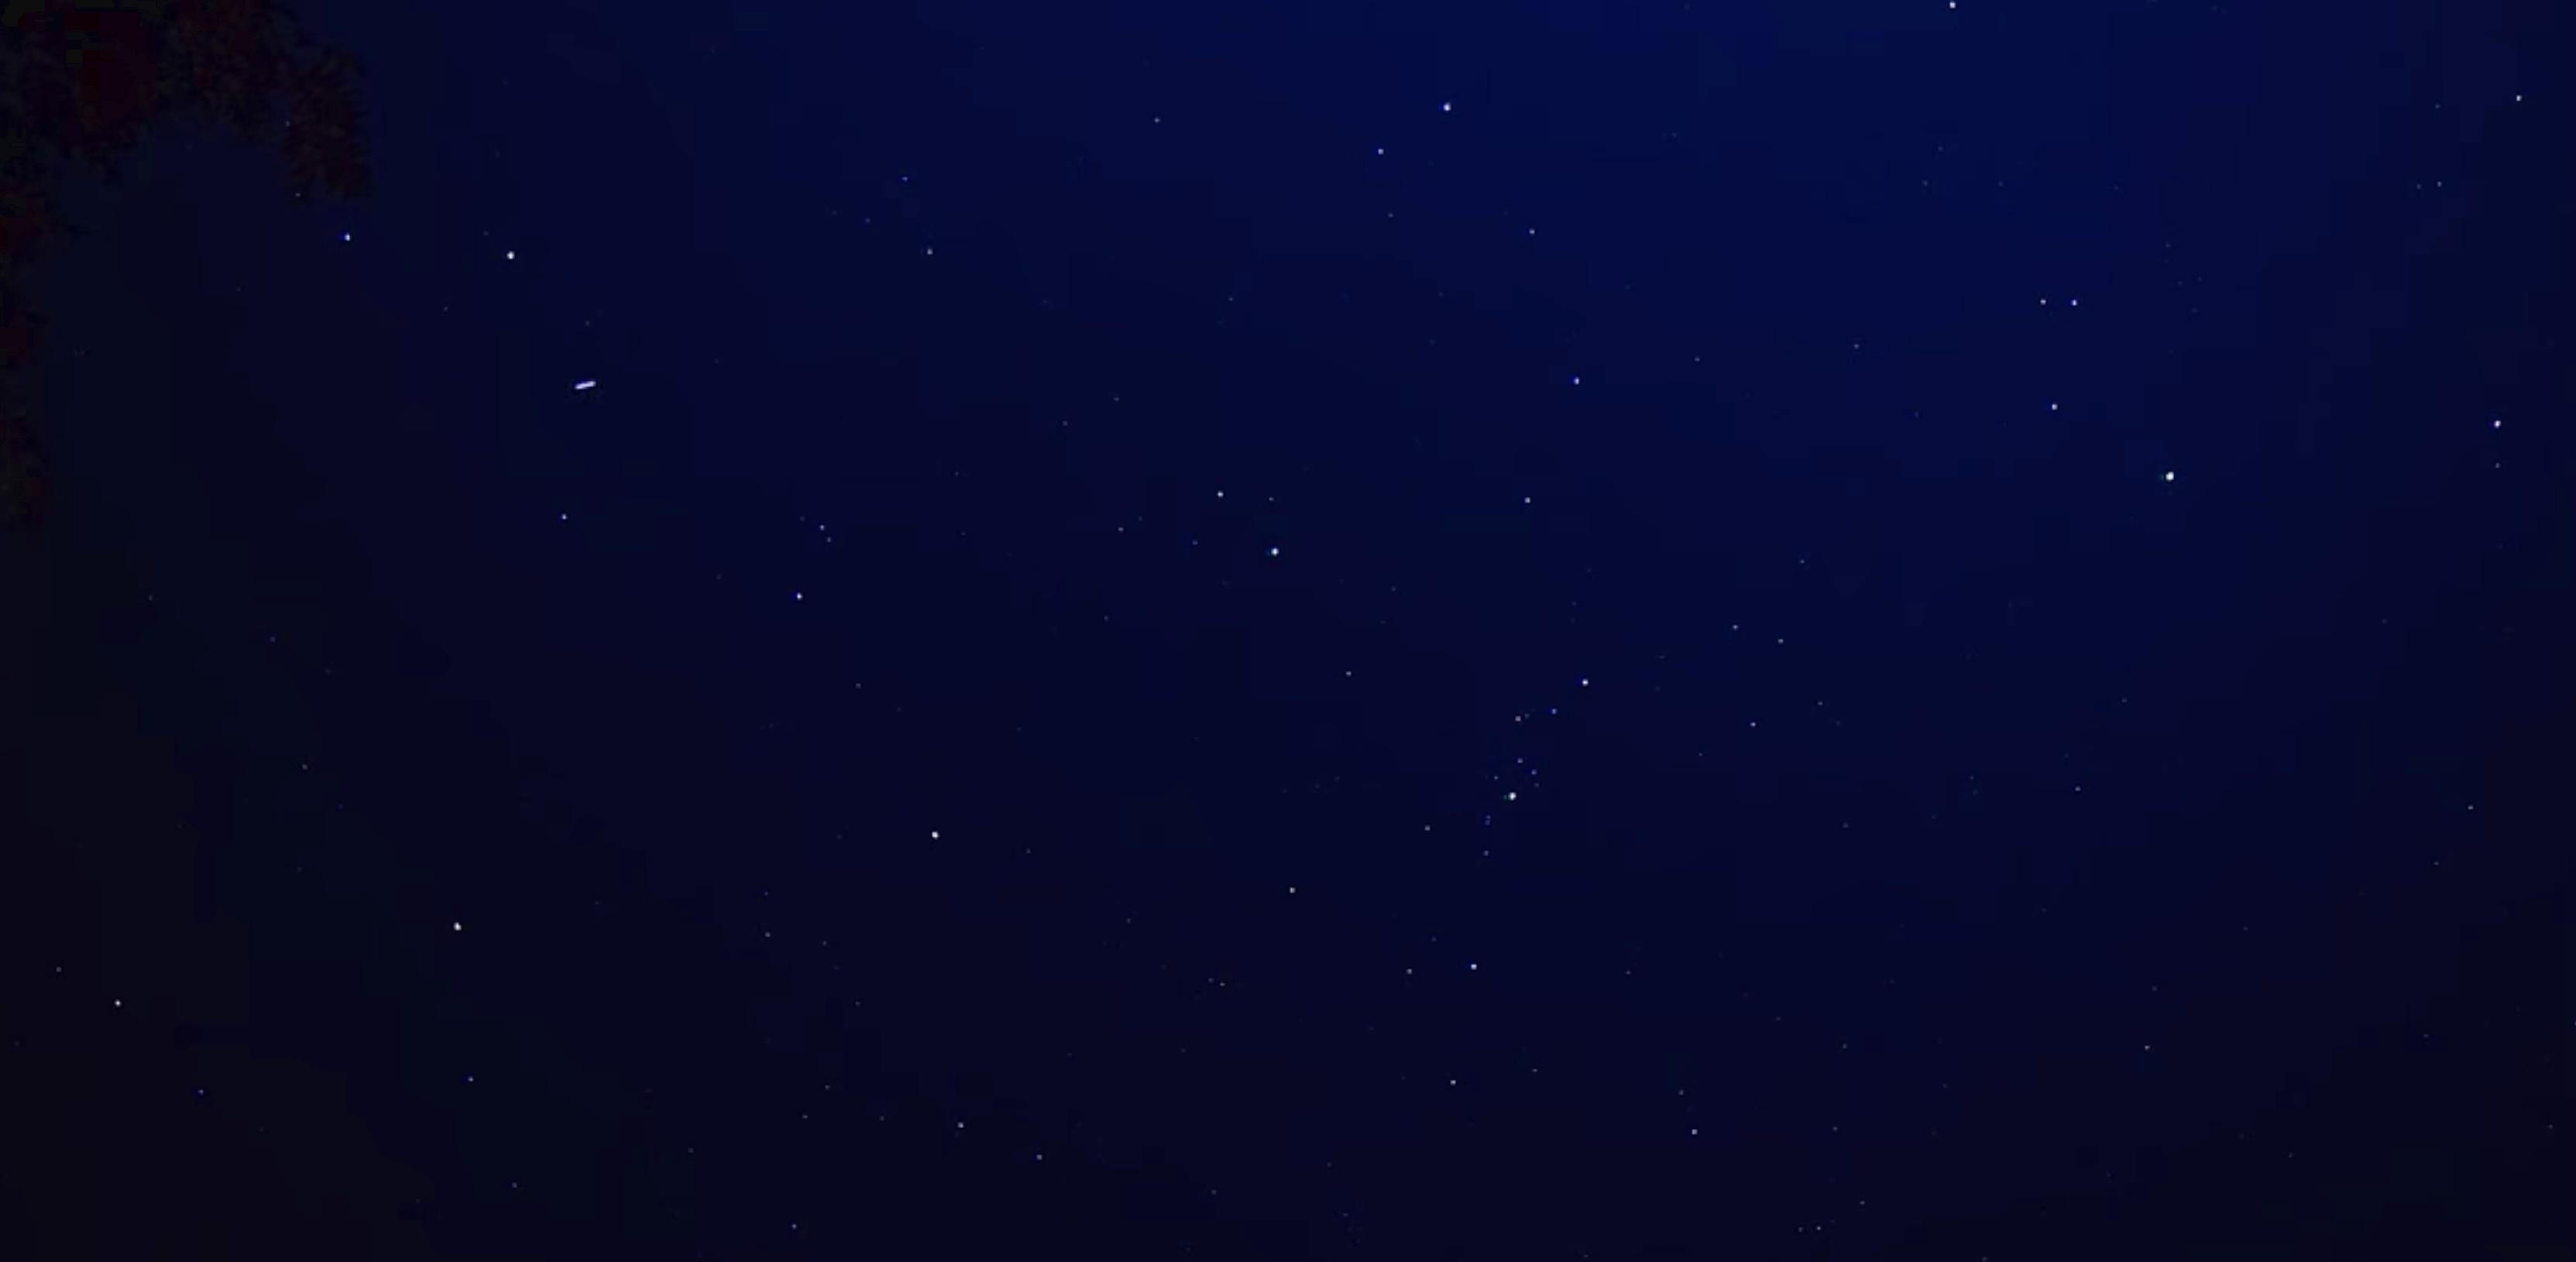meteorite: (552, 365, 621, 401)
